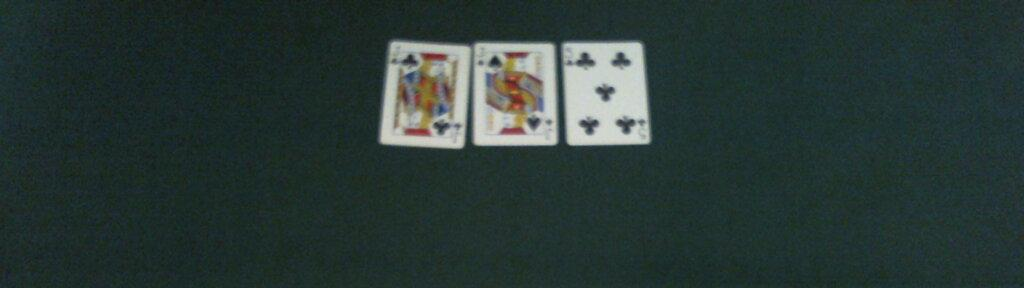five: (560, 39, 652, 145)
jack: (378, 39, 469, 150), (470, 39, 559, 146)
